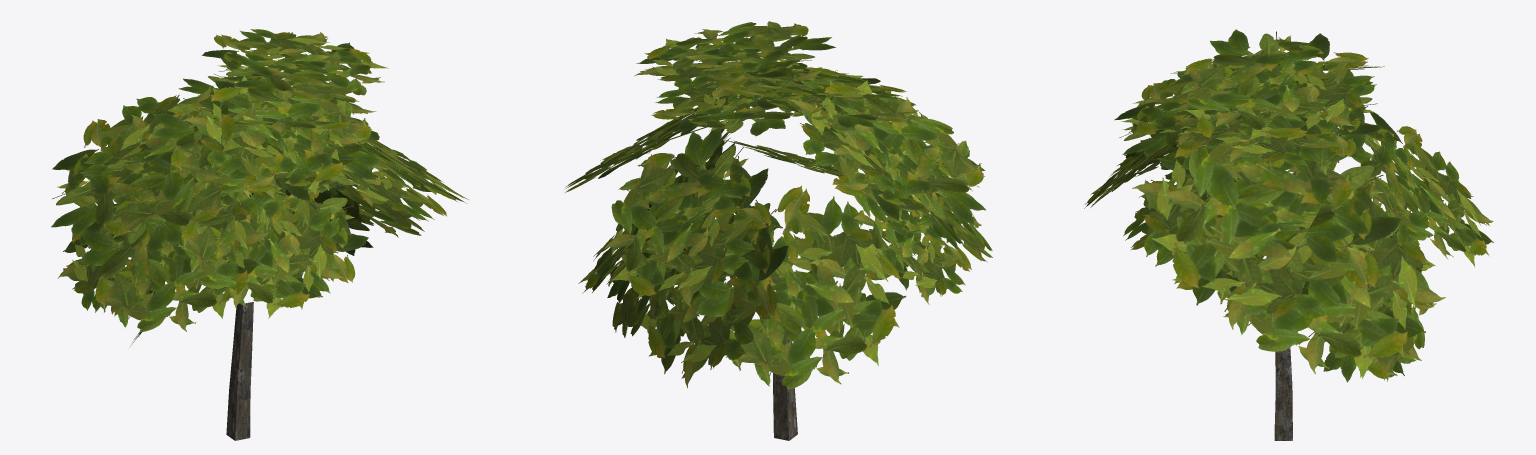
File: tree_a_far.glb
3 renders of one model, left to right at view 1: azimuth 30°, elevation 25°; view 2: azimuth 150°, elevation 25°; view 3: azimuth 270°, elevation 25°, orthographic. The views are drawn at different scales.
Visible parts, largest first — view 1: tree_a_far; view 2: tree_a_far; view 3: tree_a_far.
Part boxes in pixels (x1,y1,x2,y2): tree_a_far: [51, 29, 468, 440]; tree_a_far: [565, 21, 992, 440]; tree_a_far: [1084, 29, 1493, 440].
Size of the model in its own units: 10.51 by 8.15 by 8.36.
Materials: 2 (2 with a texture image).
